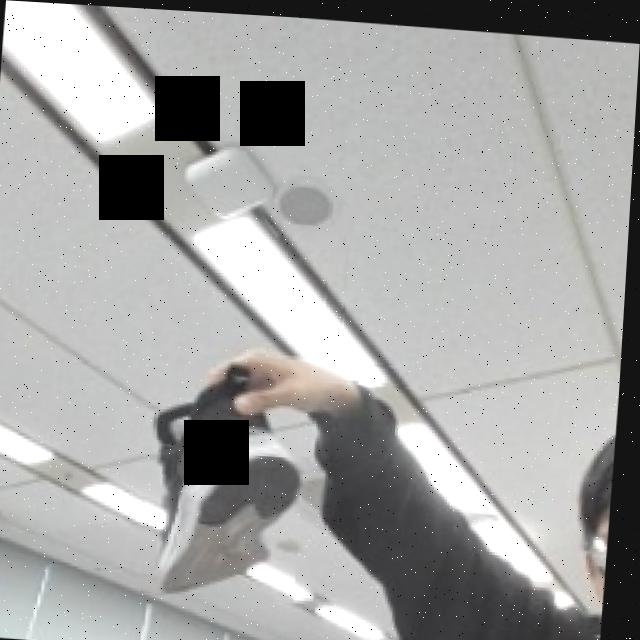shoe: (140, 351, 316, 600)
